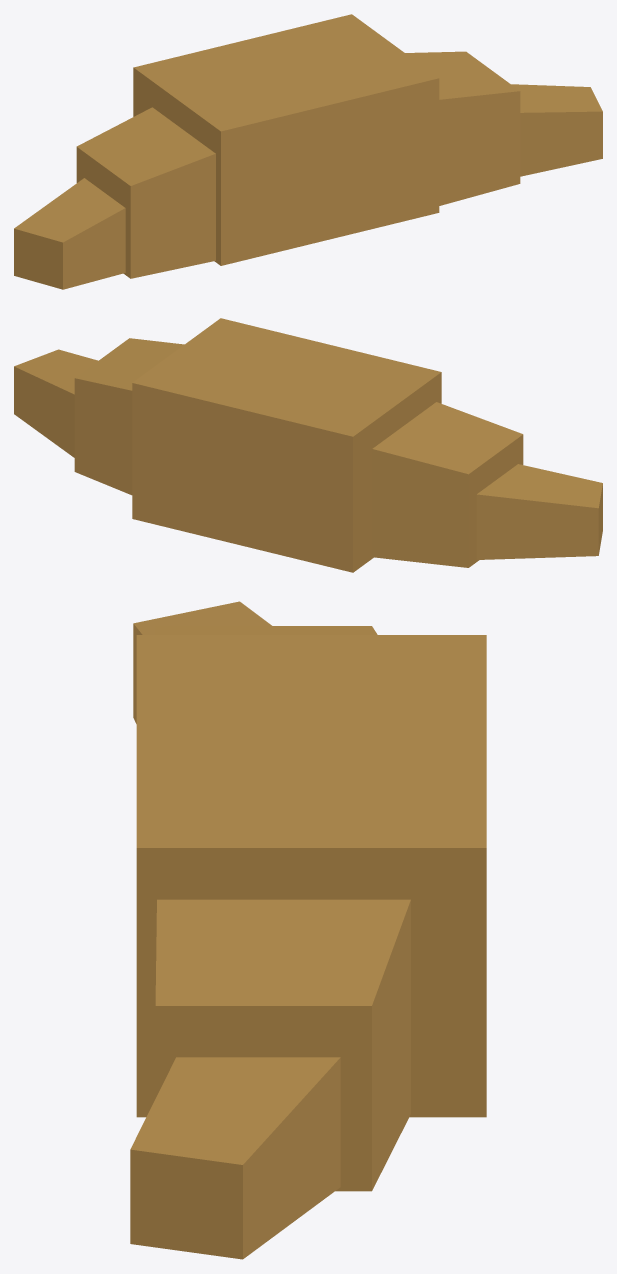
File: Croissant.glb
3 renders of one model, top to bottom at view 1: azimuth 30°, elevation 25°; view 2: azimuth 150°, elevation 25°; view 3: azimuth 270°, elevation 25°, orthographic. The views are drawn at different scales.
Visible parts, largest first — view 1: SI_Food_Bakery_Croissant; view 2: SI_Food_Bakery_Croissant; view 3: SI_Food_Bakery_Croissant.
Boxes of the visible parts, box(x1,y1,x2,y2) form: SI_Food_Bakery_Croissant: box(14, 14, 602, 289); SI_Food_Bakery_Croissant: box(14, 318, 602, 572); SI_Food_Bakery_Croissant: box(130, 601, 486, 1259).
Bounding box in the file's own units: 0.00722 × 0.00161 × 0.00193.
Materials: 1 (1 with a texture image).
